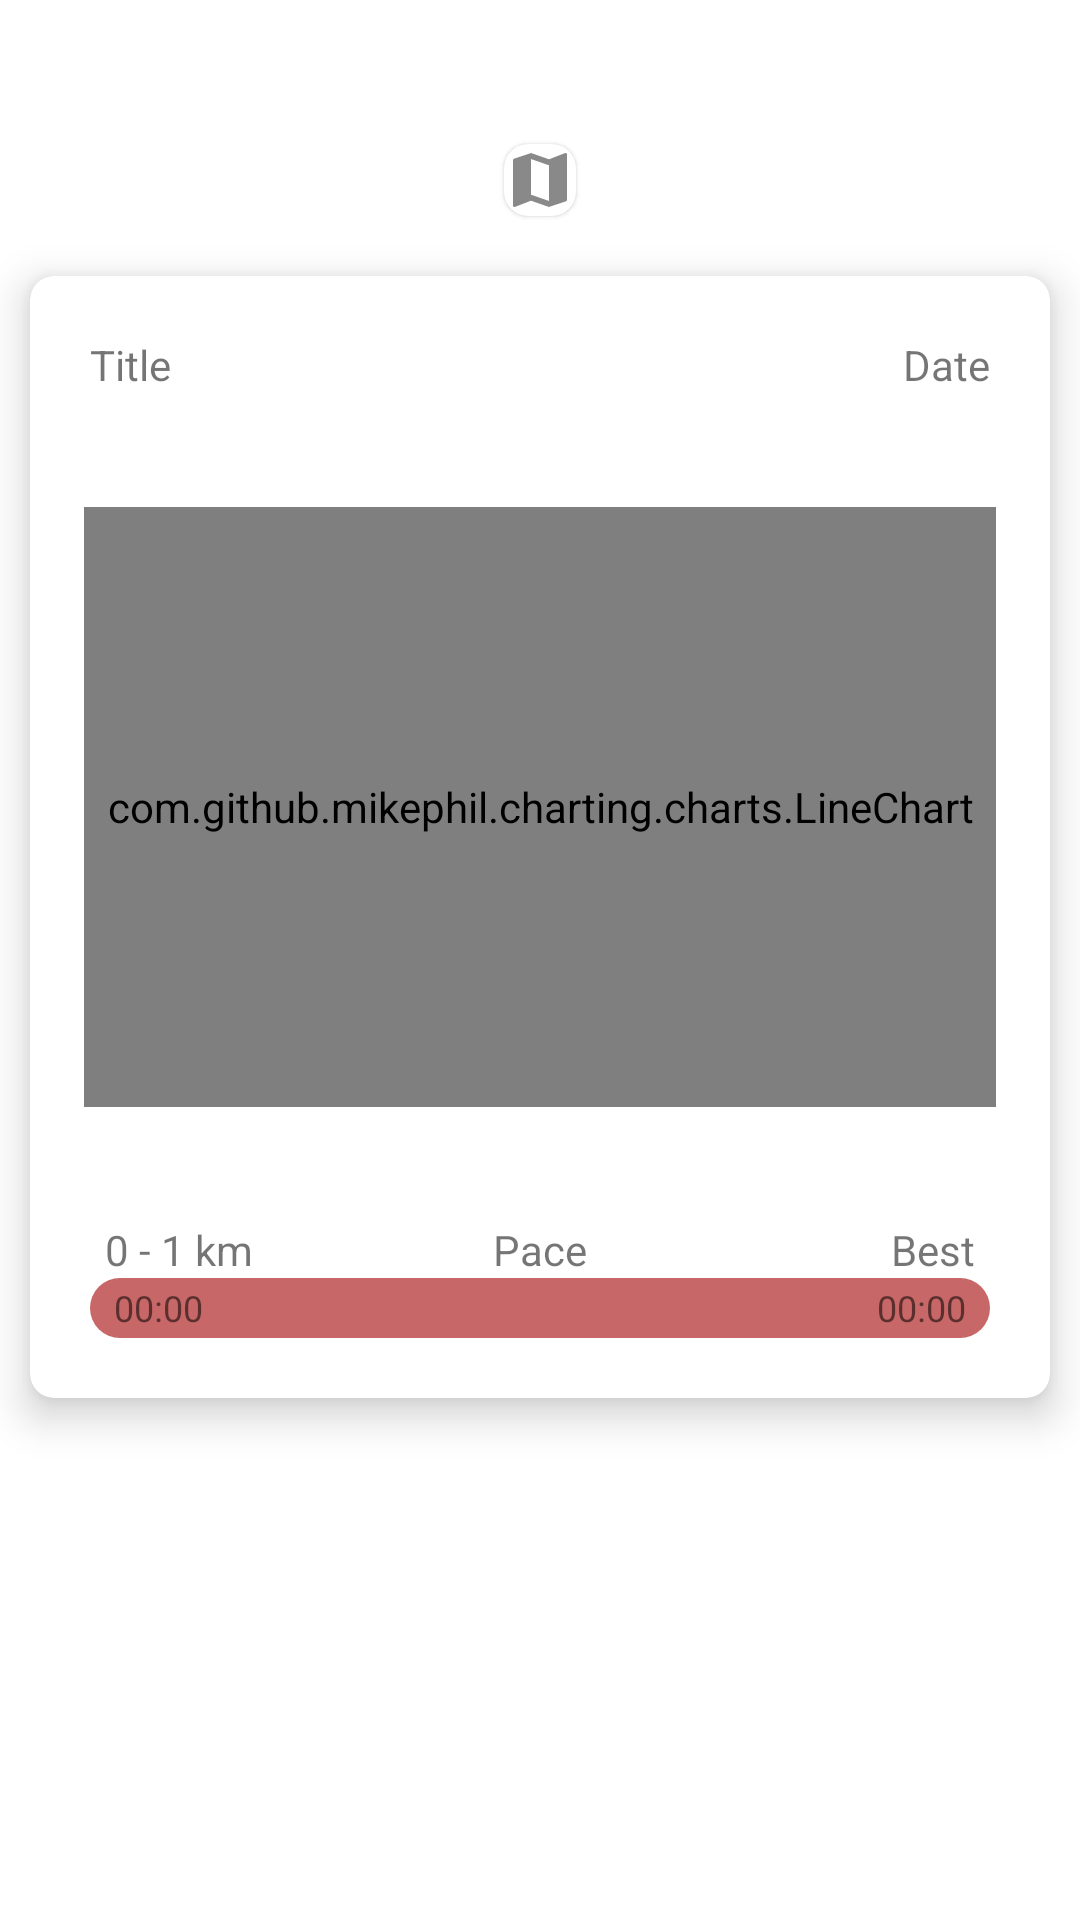

Where icons sit on this 1080*1920 app screen, as bbox(x1, y1, x2, y2):
samplemap: bbox(508, 153, 573, 216)
